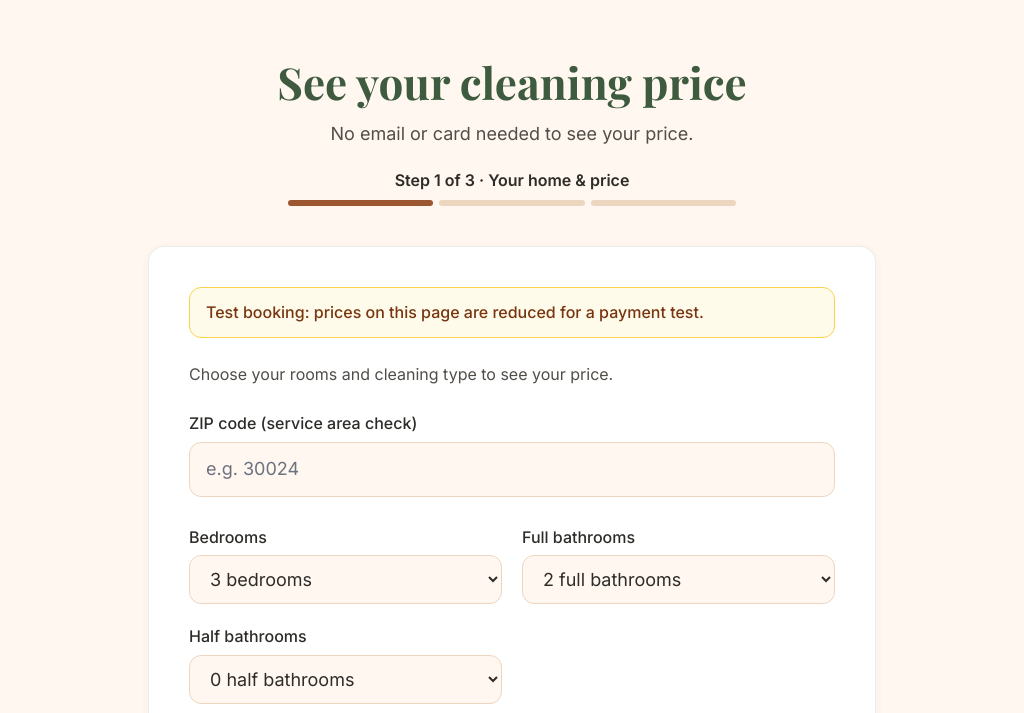
it: quote: test-price cap notice (ChatGPT #1) › shows the cap notice on step 1 when the cap actually lowers the total
Type "30024" into the field labelled "ZIP code (service area check)" at (512, 469), box top-left (189, 442), bottom-right (835, 497)
(page scrolled)
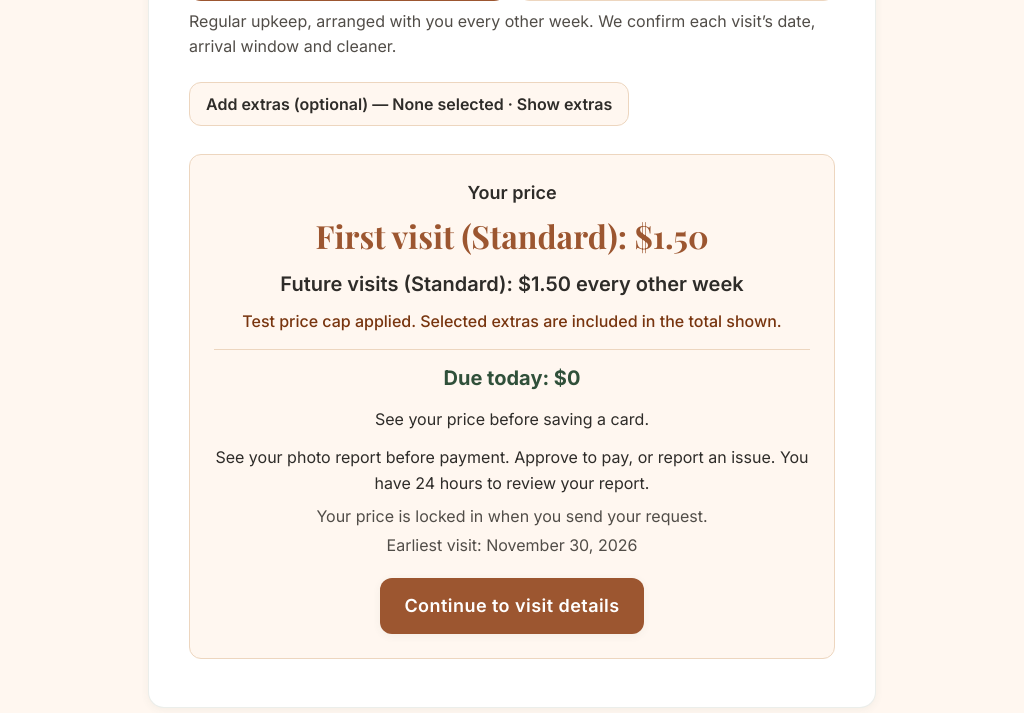
Expected: the text "First visit (Standard): $1.50" is shown, top-left (316, 216), bottom-right (709, 256)
Expected: the text "Test price cap applied. Selected extras are included in the total shown." is shown, top-left (214, 309), bottom-right (810, 333)
